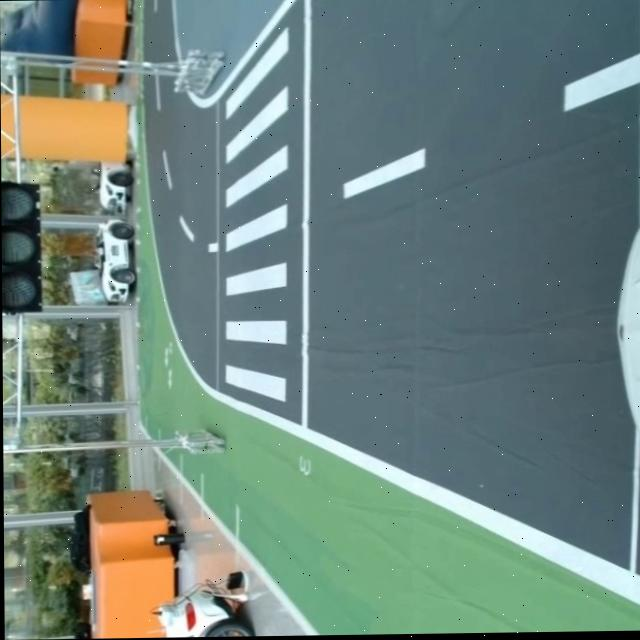traffic-light: (1, 175, 47, 318)
